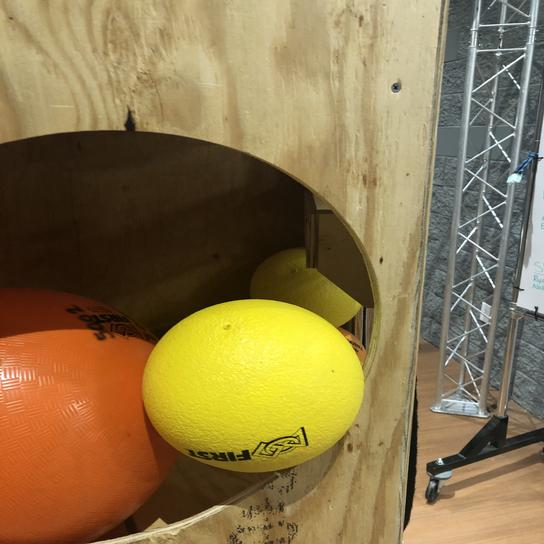ball: (136, 295, 365, 476)
